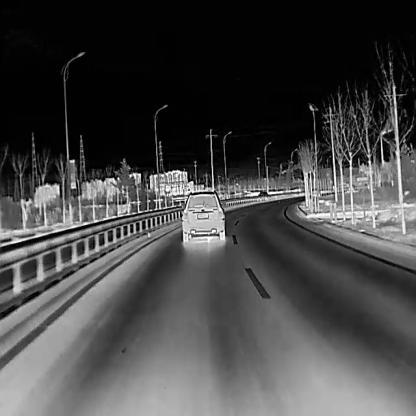car: (179, 189, 225, 242), (257, 190, 268, 201)
